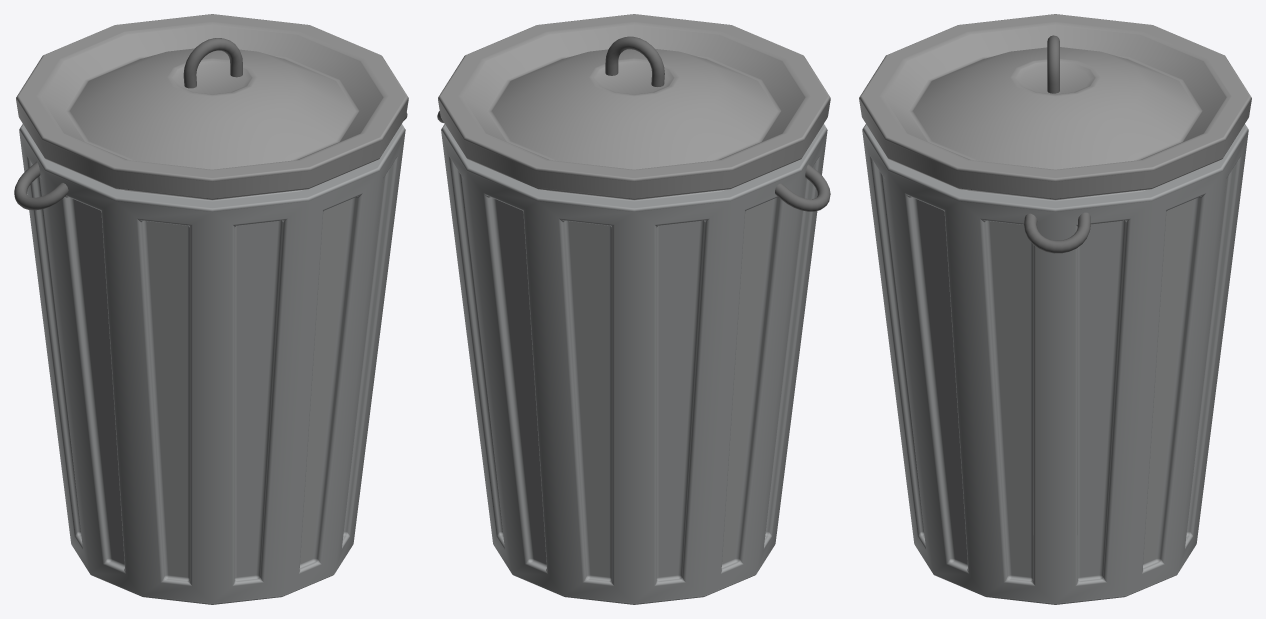
The model's file is trashcan.glb.
The picture shows the model from 3 angles, left to right: view 1: azimuth 30°, elevation 25°; view 2: azimuth 150°, elevation 25°; view 3: azimuth 270°, elevation 25°; orthographic projection.
Parts seen in each view (by area): view 1: Circle.007_14; view 2: Circle.007_14; view 3: Circle.007_14.
Part boxes in pixels (box(x1,y1,x2,y2)): Circle.007_14: box(14, 14, 408, 604); Circle.007_14: box(437, 14, 830, 604); Circle.007_14: box(859, 14, 1251, 604).
Size of the model in its own units: 10.4 by 13.17 by 9.23.
1 material, 1 textured.
